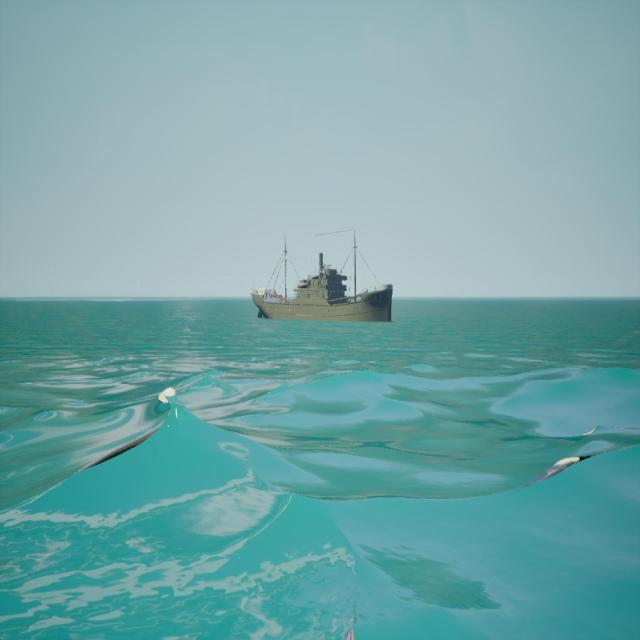fishing ship: (251, 231, 395, 324)
